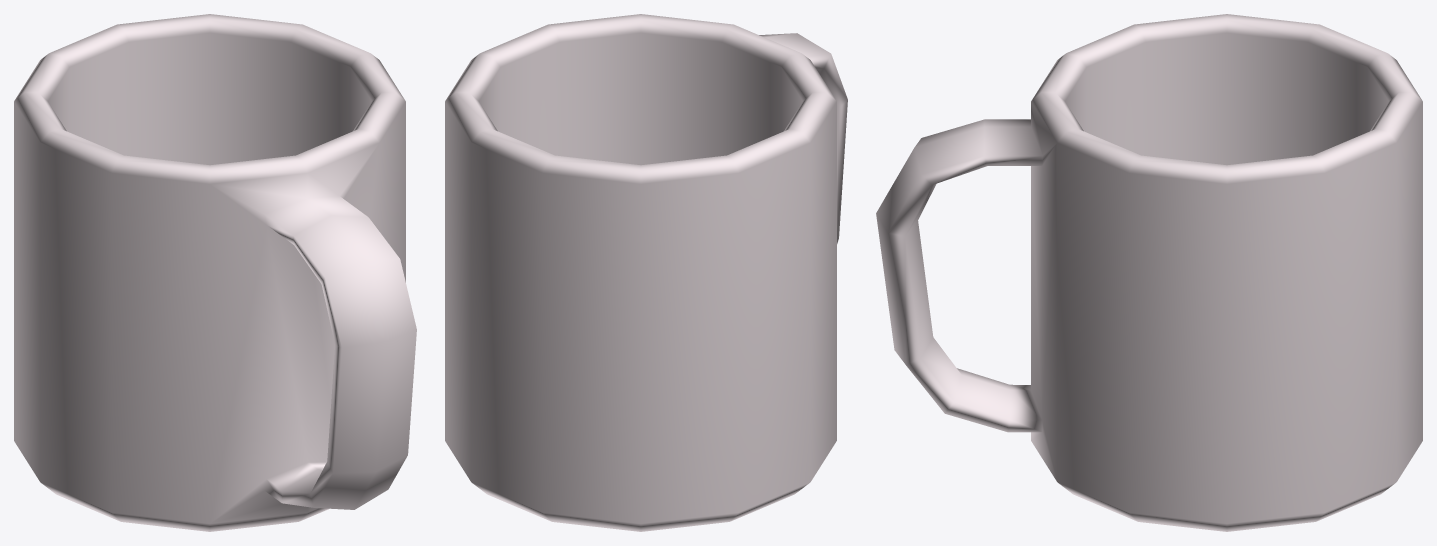
Rendered from mug.glb.
3 views of the same model, side by side, from view 1: azimuth 30°, elevation 25°; view 2: azimuth 150°, elevation 25°; view 3: azimuth 270°, elevation 25° (orthographic).
Parts seen in each view (by area): view 1: pCylinder17; view 2: pCylinder17; view 3: pCylinder17.
Boxes of the visible parts, box(x1,y1,x2,y2) form: pCylinder17: box(14, 14, 416, 531); pCylinder17: box(445, 14, 847, 531); pCylinder17: box(876, 14, 1422, 531).
Bounding box in the file's own units: 0.1231 × 0.1264 × 0.1719.
Materials: 1 (1 with a texture image).
